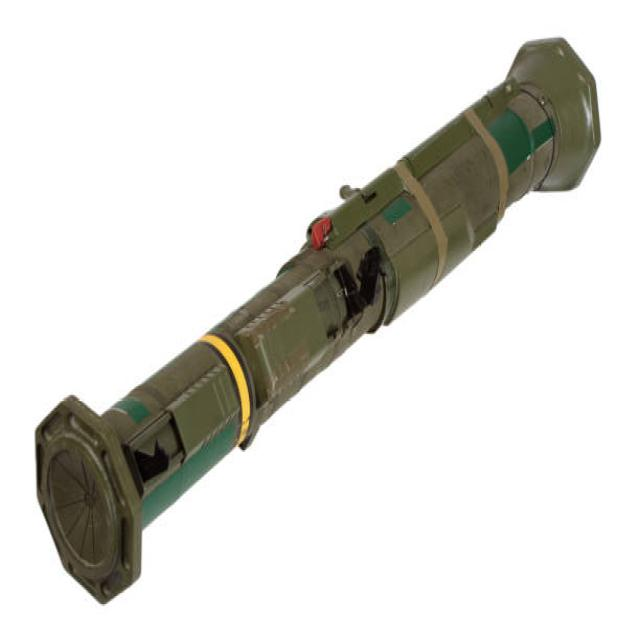bazooka: (28, 28, 607, 622)
